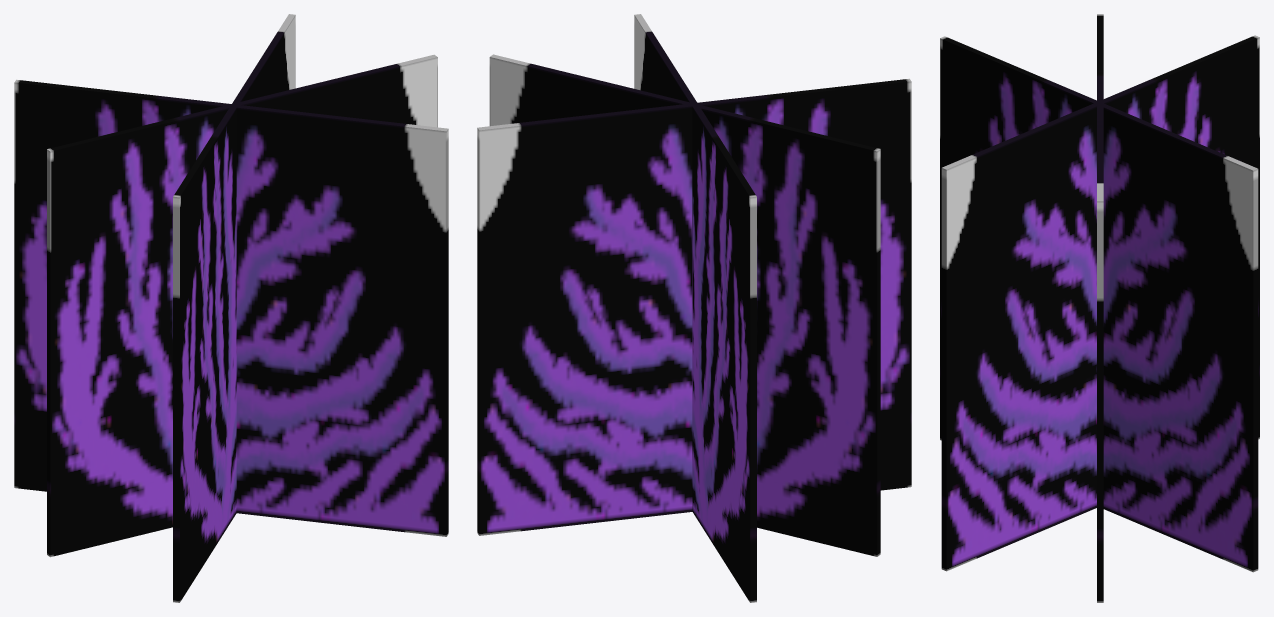
The model's file is Coral_Branch_2.obj.
3 renders of one model, left to right at view 1: azimuth 30°, elevation 25°; view 2: azimuth 150°, elevation 25°; view 3: azimuth 270°, elevation 25°, orthographic.
Parts seen in each view (by area): view 1: polySurface1; view 2: polySurface1; view 3: polySurface1.
Boxes of the visible parts, x1,y1,x2,y2 form: polySurface1: [14, 14, 448, 602]; polySurface1: [477, 14, 911, 602]; polySurface1: [940, 14, 1259, 602].
Size of the model in its own units: 4.48 by 4.48 by 3.23.
Materials: 1 (1 with a texture image).
